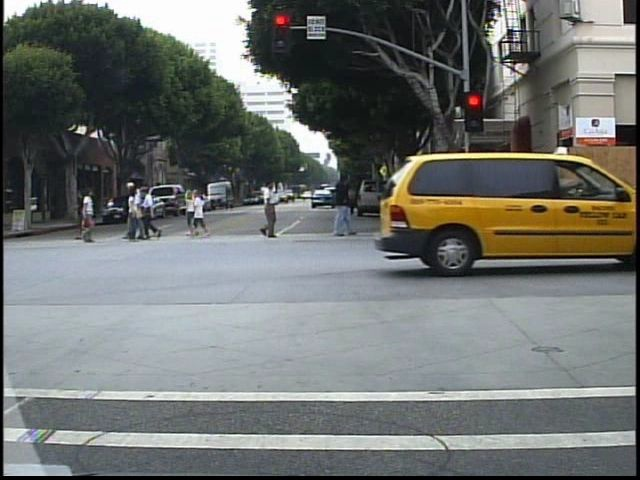person: (325, 165, 361, 240), (253, 181, 285, 241), (73, 187, 104, 248), (142, 183, 163, 241), (72, 186, 94, 241), (129, 177, 146, 244), (121, 187, 139, 245)
